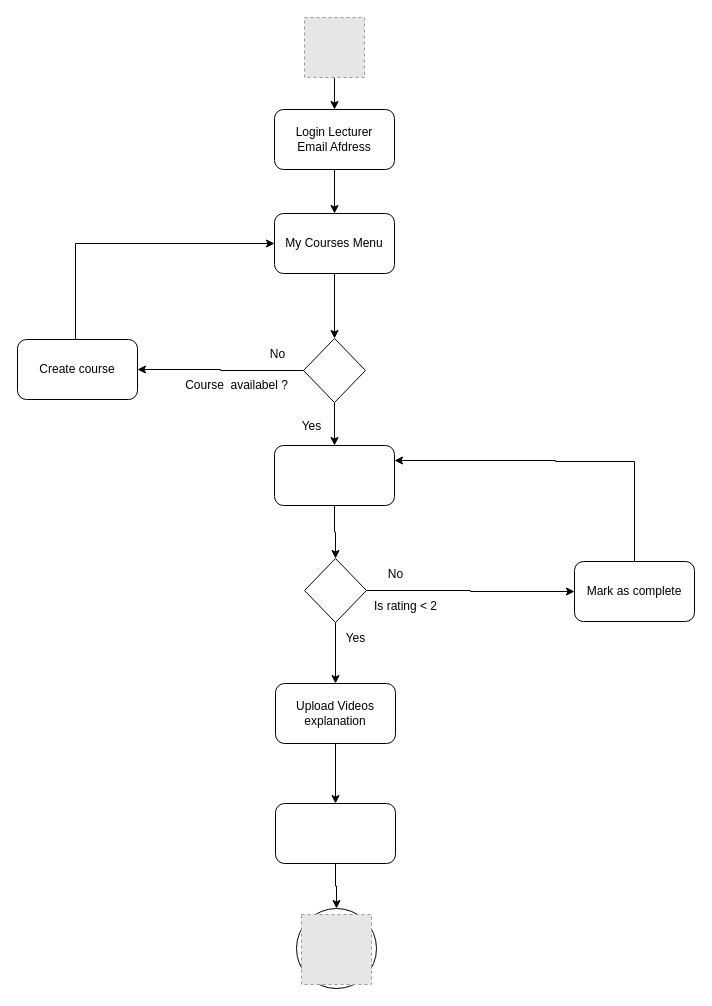
Image size: 712x1006. Some labels were removed from this diagram. Grey dashed boxes stand in for pictures. The shapes that lost their labels are listed below. From the top down, each one's centre as x and y in pixels, then its label:
At point 334,475: "Course Decription Menu".
At point 335,833: "Logout".
